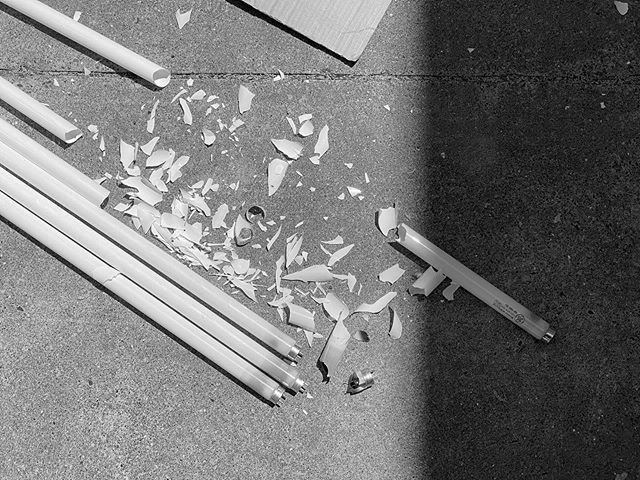trash: (17, 32, 569, 417)
